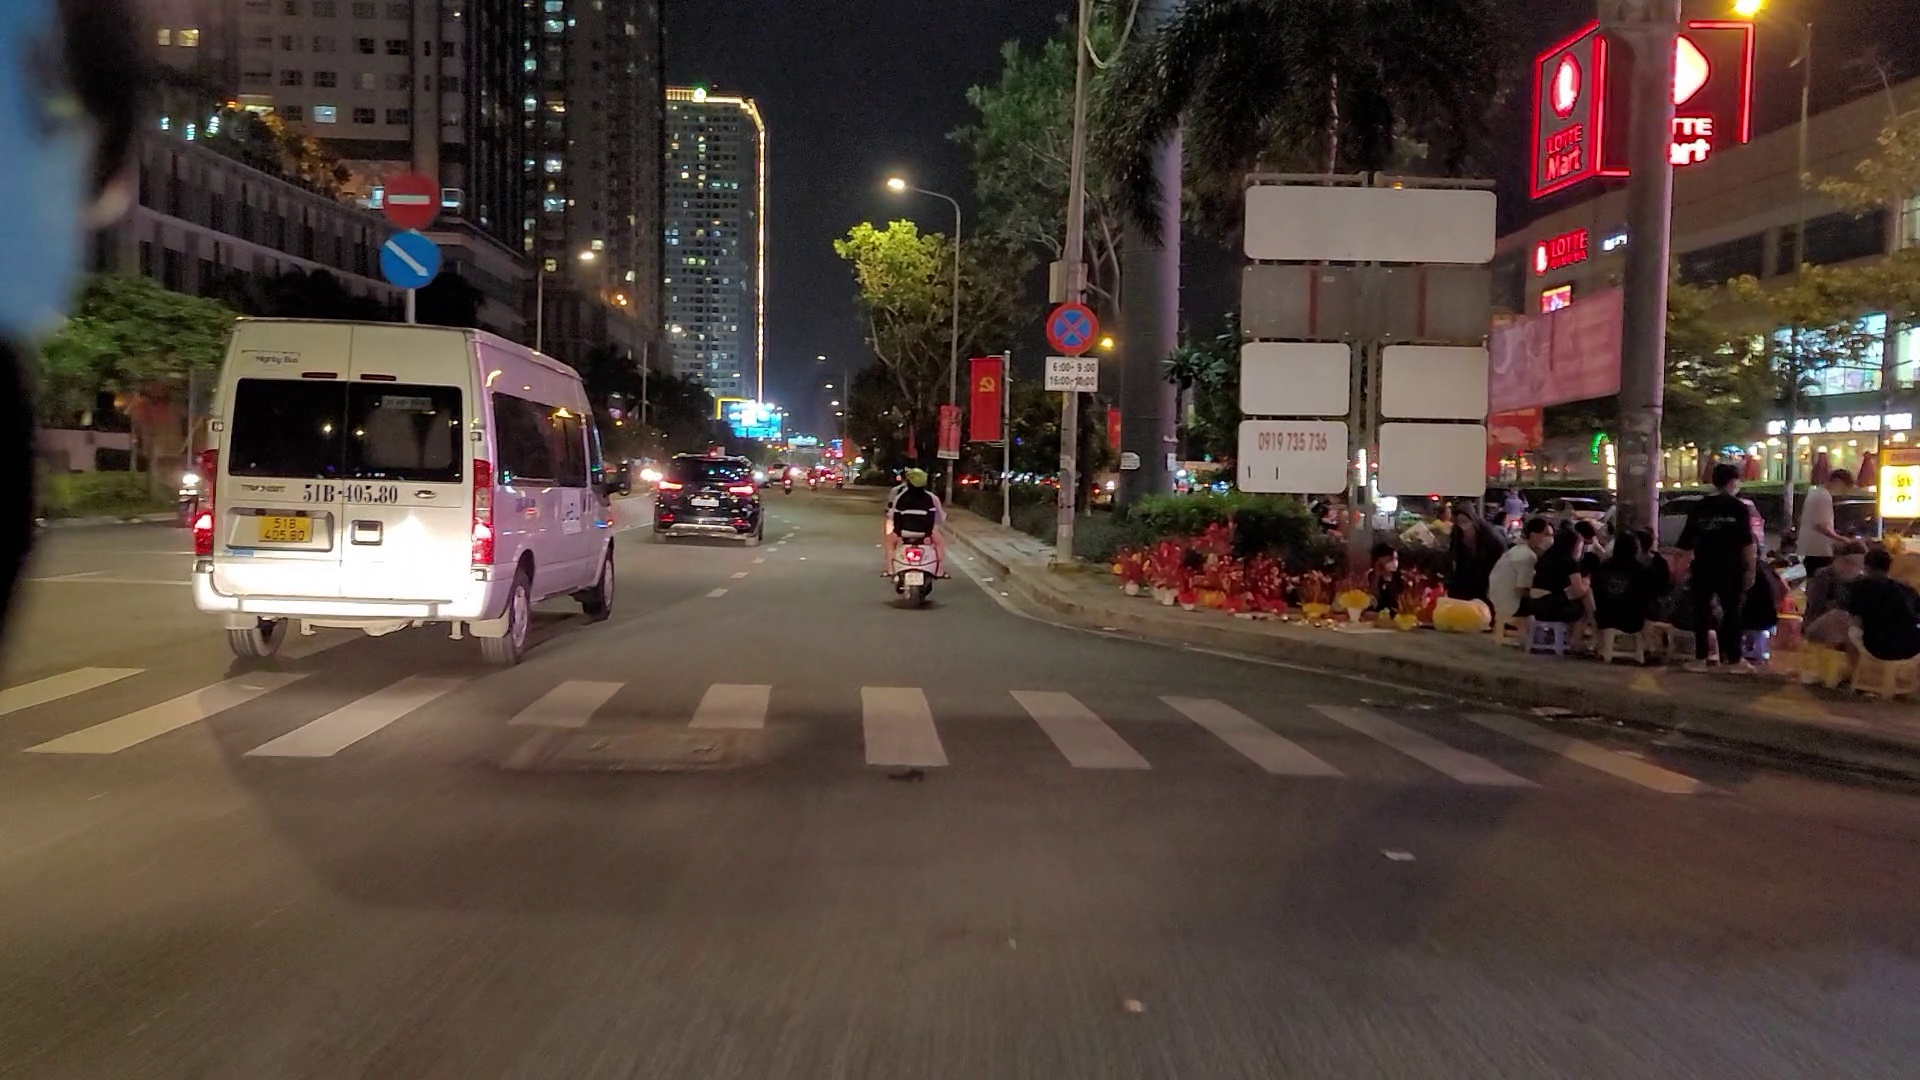Bien khac: (1044, 303, 1098, 356)
Cam di nguoc chieu: (381, 170, 439, 225)
Huong di phai re phai: (378, 231, 440, 291)
